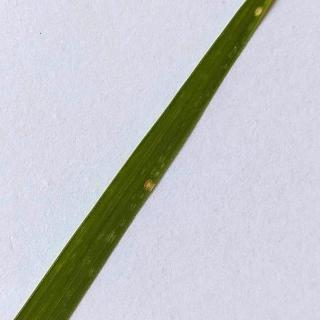Blast: (137, 169, 160, 195), (247, 0, 268, 22)
